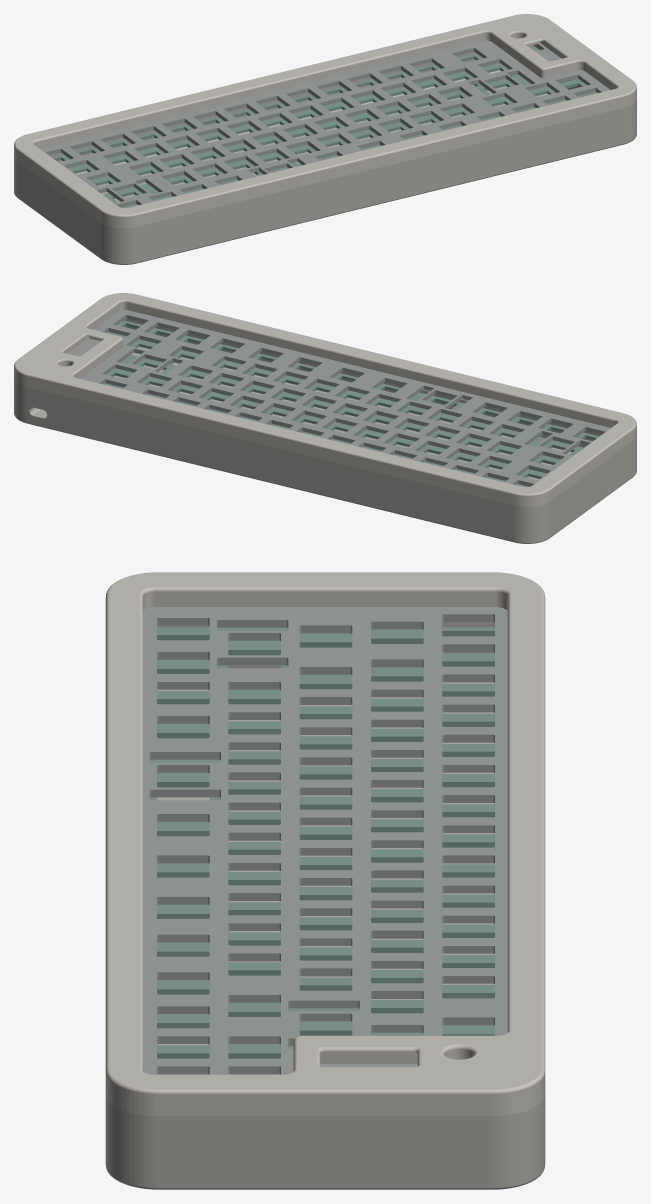
File: keyboard-assembly.glb
3 renders of one model, top to bottom at view 1: azimuth 30°, elevation 25°; view 2: azimuth 150°, elevation 25°; view 3: azimuth 270°, elevation 25°, orthographic. The views are drawn at different scales.
Visible parts, largest first — view 1: part-1, part-0, part-2, part-3; view 2: part-1, part-0, part-2, part-3; view 3: part-1, part-0, part-3, part-2.
Part boxes in pixels (bbox=[...]): part-1: bbox=[40, 40, 609, 207]; part-0: bbox=[14, 14, 636, 228]; part-2: bbox=[14, 45, 636, 264]; part-3: bbox=[52, 45, 597, 207]; part-1: bbox=[68, 309, 610, 486]; part-0: bbox=[14, 293, 636, 507]; part-2: bbox=[14, 318, 636, 543]; part-3: bbox=[103, 321, 598, 486]; part-1: bbox=[143, 607, 507, 1074]; part-0: bbox=[105, 572, 545, 1116]; part-3: bbox=[149, 627, 494, 1058]; part-2: bbox=[105, 622, 545, 1189].
Size of the model in its own units: 0.3284 by 0.0295 by 0.1173.
